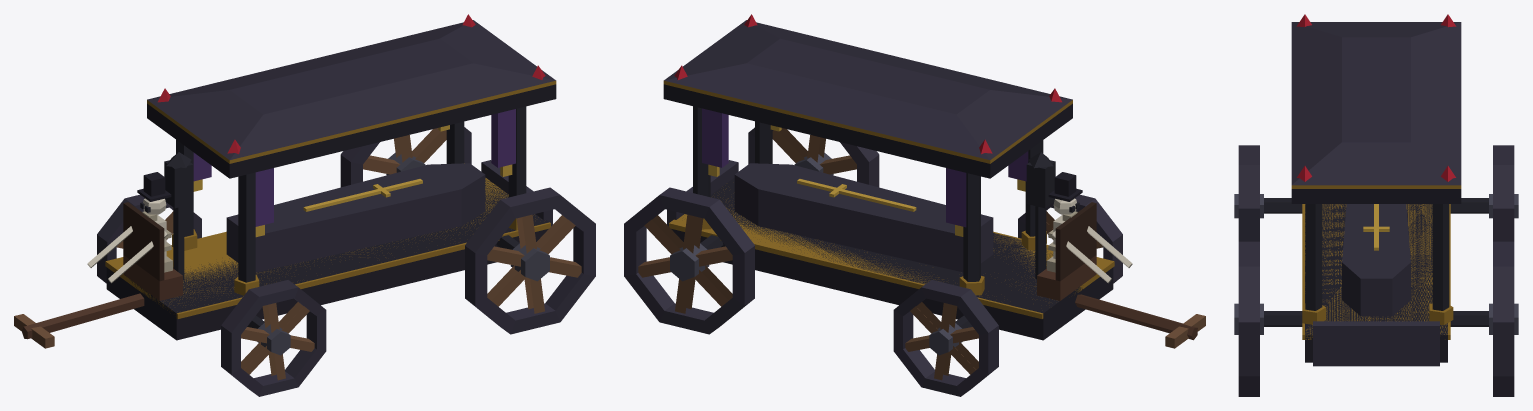
File: Decor_VampireCrypt_Hearse.fbx
3 views of the same model, side by side, from view 1: azimuth 30°, elevation 25°; view 2: azimuth 150°, elevation 25°; view 3: azimuth 270°, elevation 25° (orthographic). The views are drawn at different scales.
Parts seen in each view (by area): view 1: Hearse_Body; view 2: Hearse_Body; view 3: Hearse_Body.
Boxes of the visible parts, x1,y1,x2,y2 form: Hearse_Body: (14,14,595,396); Hearse_Body: (624,14,1205,396); Hearse_Body: (1234,14,1518,396).
Size of the model in its own units: 21.8 by 9.6 by 10.4.
